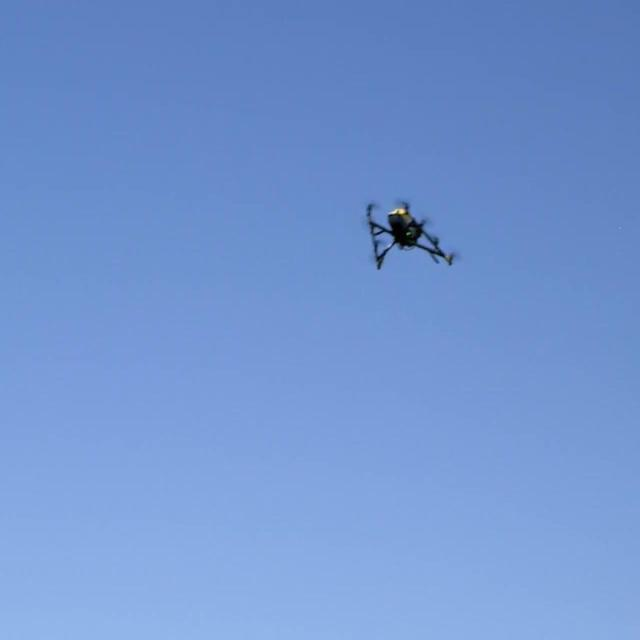drone: (365, 197, 456, 277)
